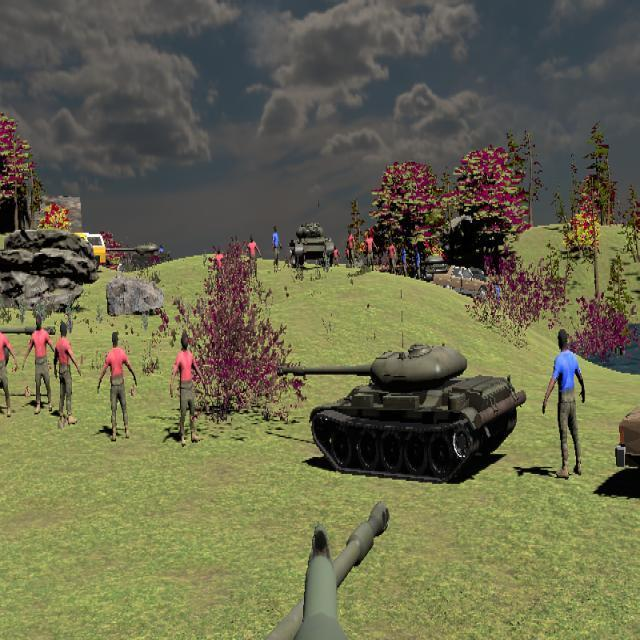Human: (542, 327, 586, 480), (96, 331, 137, 442), (169, 332, 206, 446), (23, 315, 58, 414), (54, 322, 81, 427), (0, 314, 17, 418), (243, 235, 262, 282)
Tank: (277, 342, 526, 485), (288, 222, 334, 269), (106, 241, 173, 269)
car: (615, 375, 640, 491), (432, 265, 503, 301)
